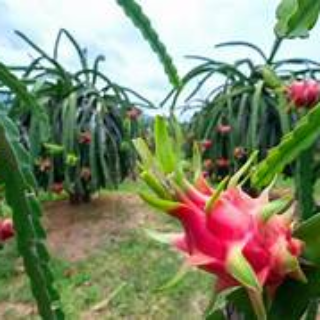thanh_long: (128, 130, 316, 297)
